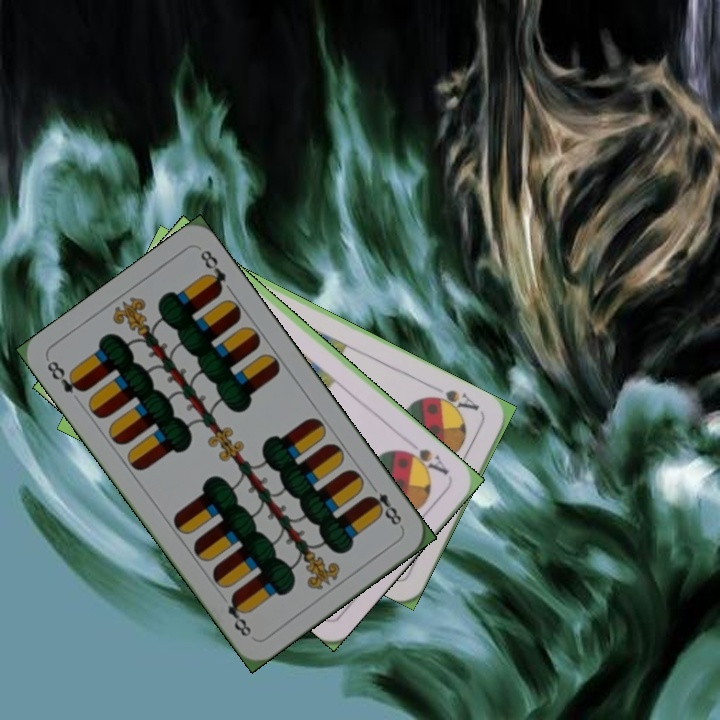E8: (363, 479, 406, 531), (42, 356, 88, 396)
SA: (426, 385, 482, 418), (399, 444, 452, 478)
